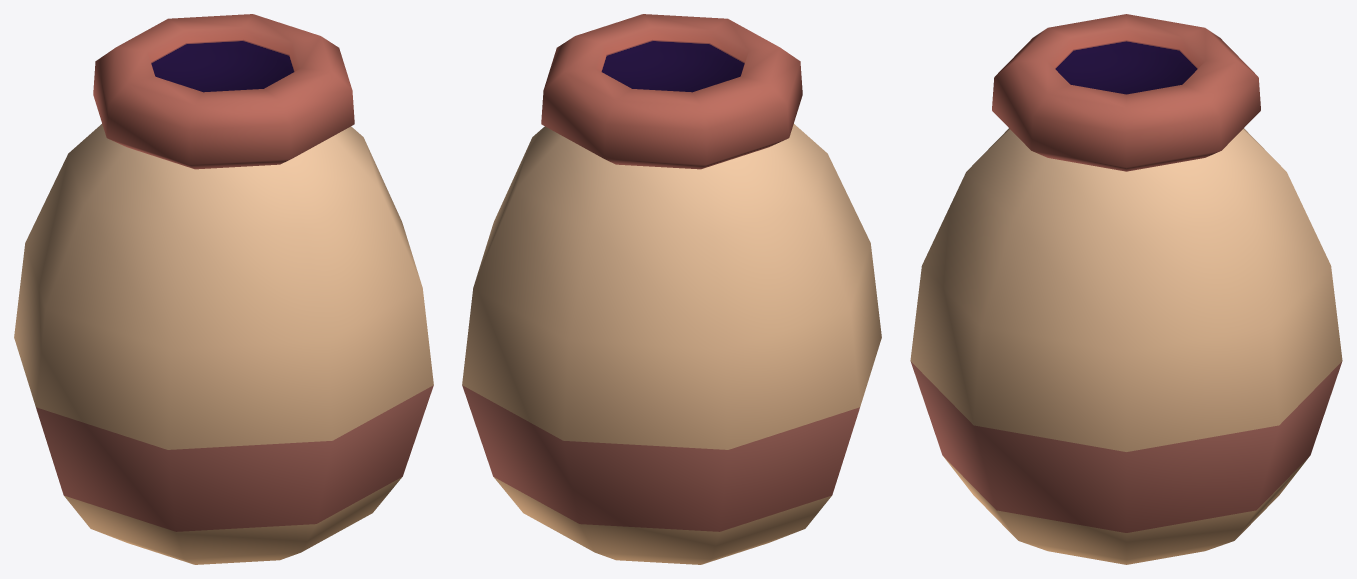
Rendered from Vase1.fbx.
3 renders of one model, left to right at view 1: azimuth 30°, elevation 25°; view 2: azimuth 150°, elevation 25°; view 3: azimuth 270°, elevation 25°, orthographic.
Visible parts, largest first — view 1: Vase1; view 2: Vase1; view 3: Vase1.
Part boxes in pixels (left/top/right/bottom): Vase1: left=14, top=14, right=433, bottom=564; Vase1: left=462, top=14, right=881, bottom=564; Vase1: left=910, top=14, right=1342, bottom=564.
Bounding box in the file's own units: 77.64 × 90.58 × 77.64.
